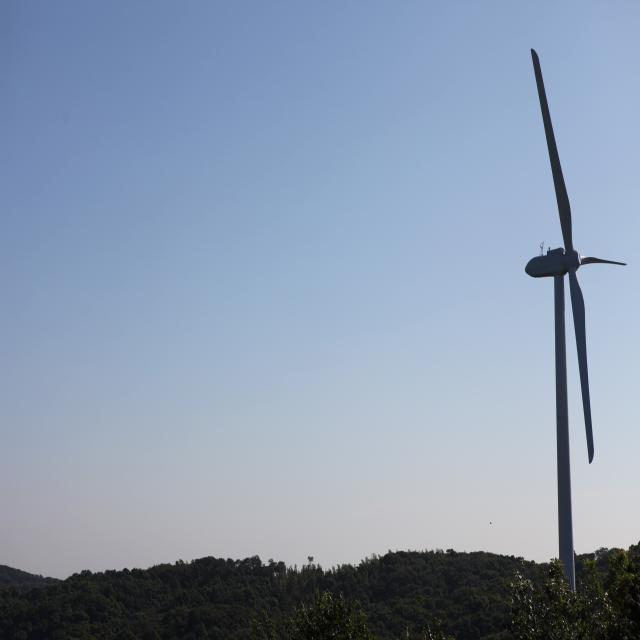bird: (488, 520, 494, 527)
